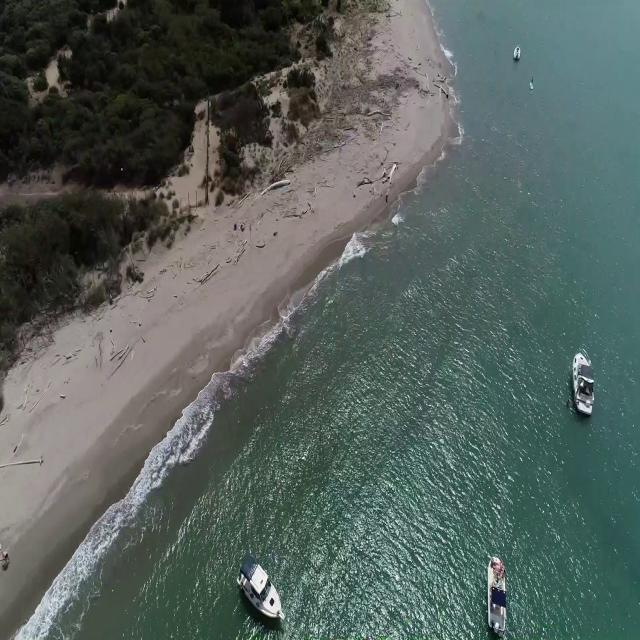boat: (235, 553, 286, 622), (486, 554, 509, 634), (572, 346, 596, 418), (513, 45, 522, 62)
person: (2, 547, 10, 567), (530, 74, 536, 85)
surfboard: (527, 80, 534, 92)
wood: (352, 161, 398, 207), (0, 449, 43, 476)
